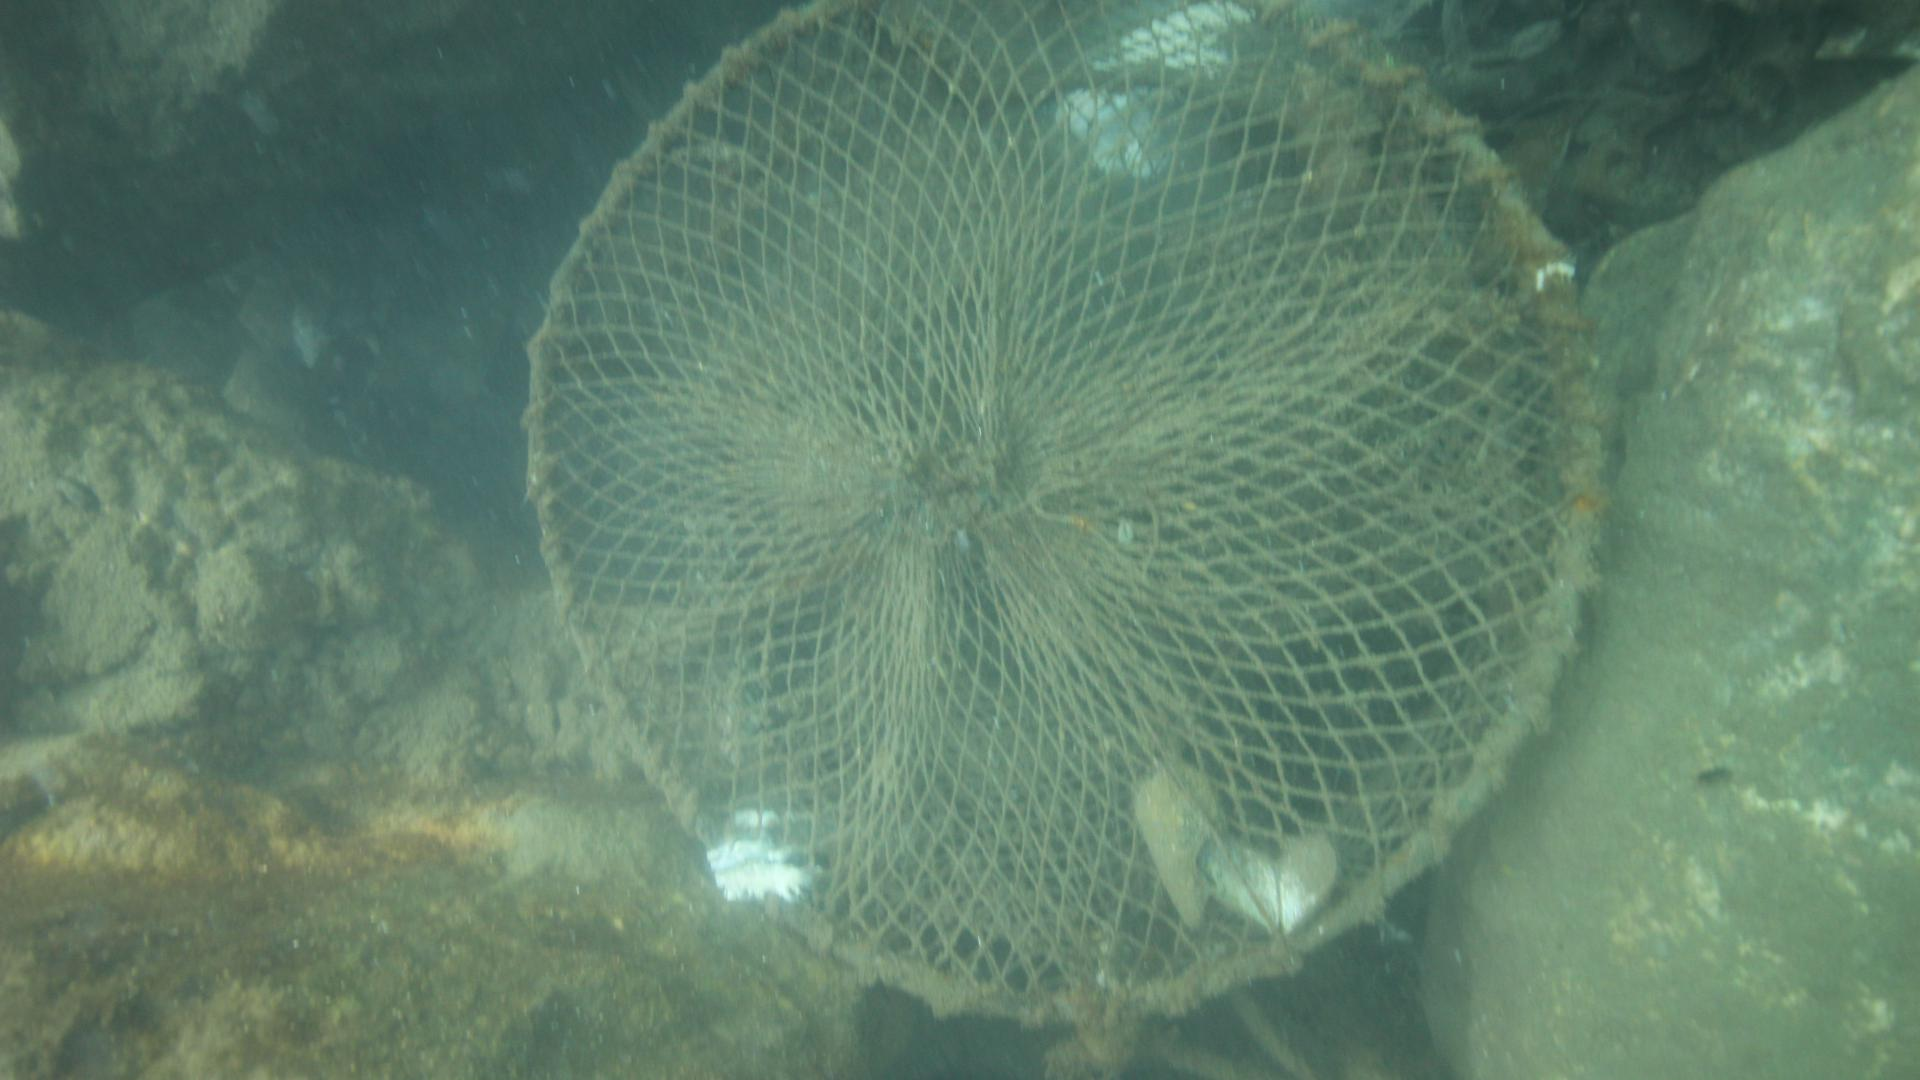circular fish trap: (521, 0, 1611, 1026)
